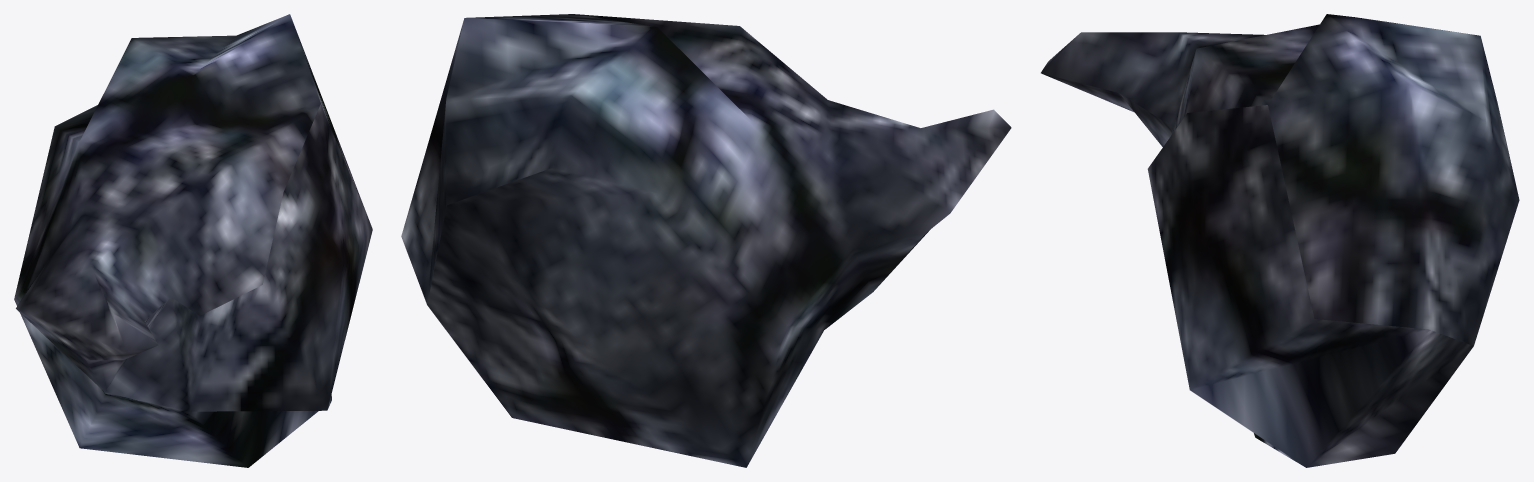
File: nar_condra_7_arm_right_3.glb
The picture shows the model from 3 angles, left to right: view 1: azimuth 30°, elevation 25°; view 2: azimuth 150°, elevation 25°; view 3: azimuth 270°, elevation 25°; orthographic projection. The views are drawn at different scales.
Visible parts, largest first — view 1: model_nar_condra_7_arm_right_3; view 2: model_nar_condra_7_arm_right_3; view 3: model_nar_condra_7_arm_right_3.
Boxes of the visible parts, x1,y1,x2,y2 form: model_nar_condra_7_arm_right_3: [14, 14, 372, 467]; model_nar_condra_7_arm_right_3: [401, 14, 1011, 467]; model_nar_condra_7_arm_right_3: [1041, 14, 1519, 467].
Bounding box in the file's own units: 0.6256 × 0.5617 × 0.5902.
1 material, 1 textured.
